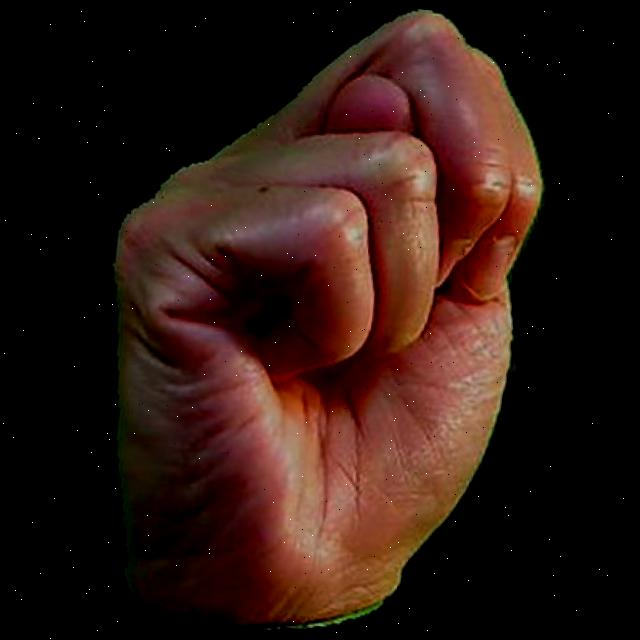n: (67, 0, 568, 640)
